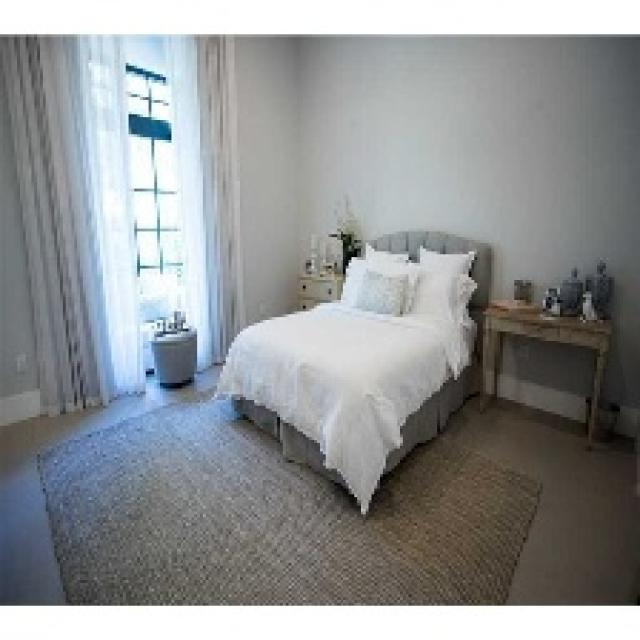Bed: (214, 229, 492, 514)
